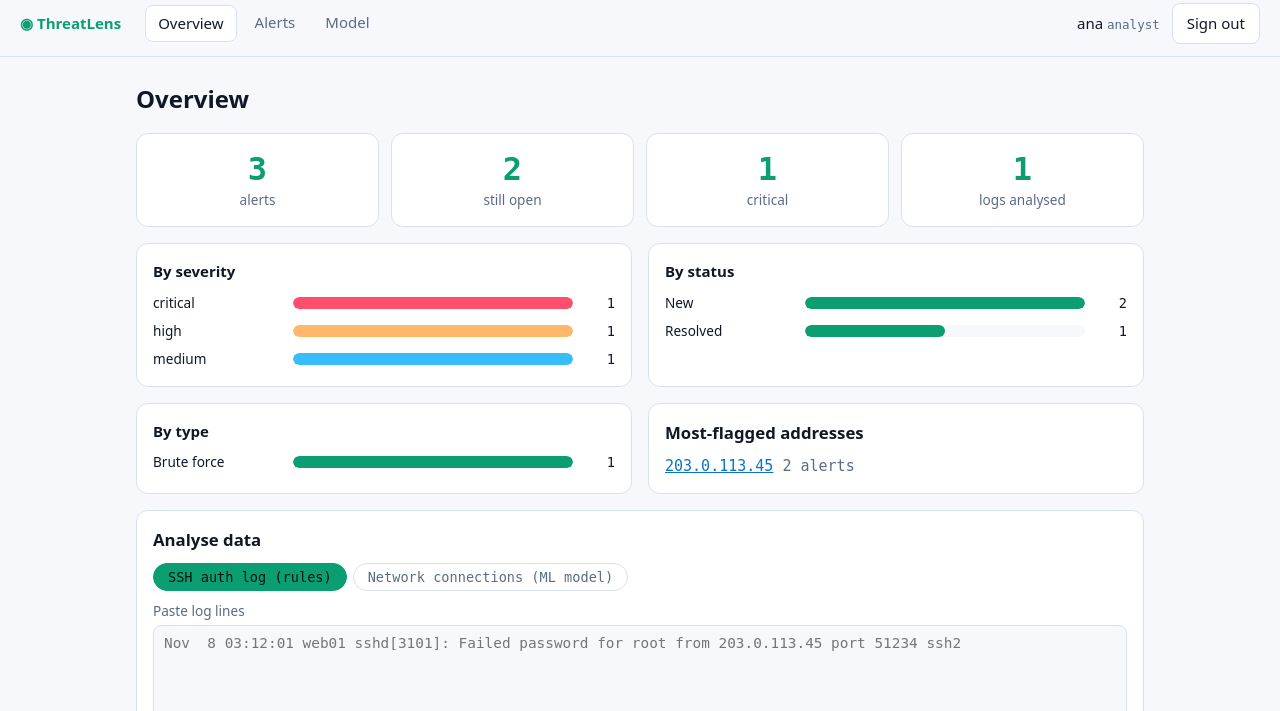
Scenario: machine-learning features › shows the server message when records are malformed
This screenshot has width=1280, height=711.
Click the tab "Network connections (ML model)": (490,576) [353, 562, 628, 590]
(page scrolled)
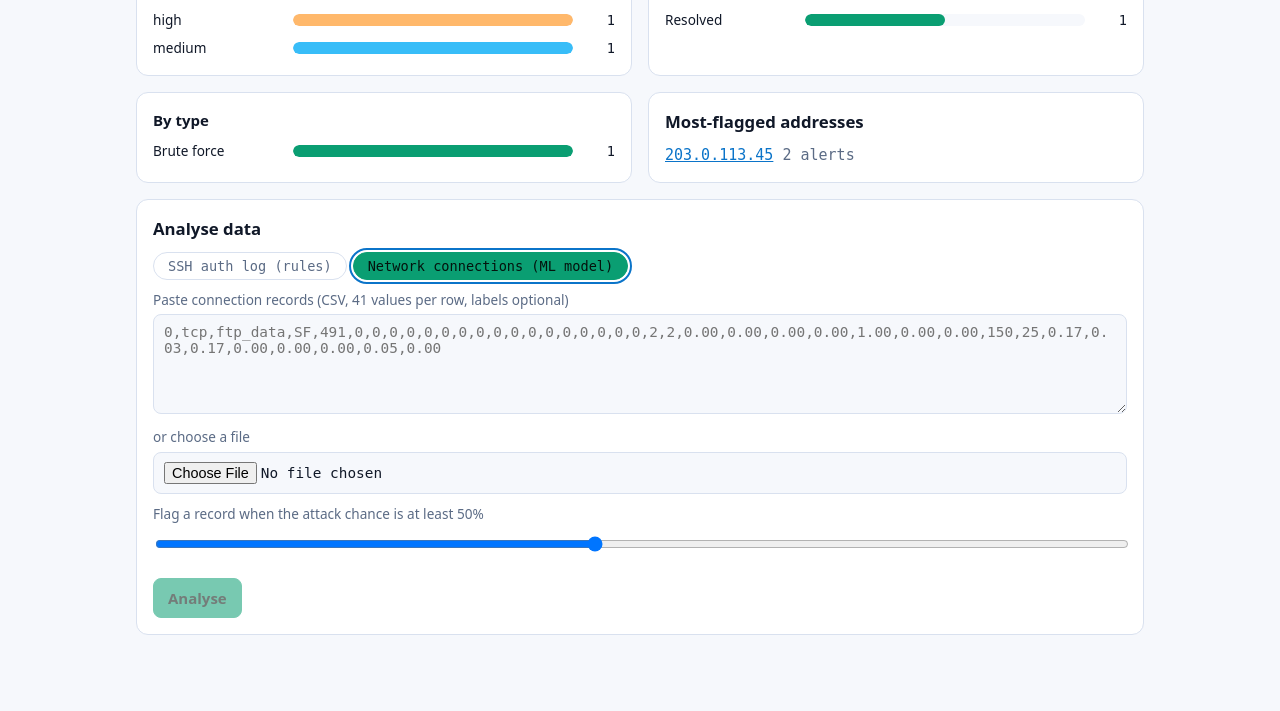
In the text box labelled "Paste connection records": (640,364) [153, 314, 1127, 414], type "1,2,3"
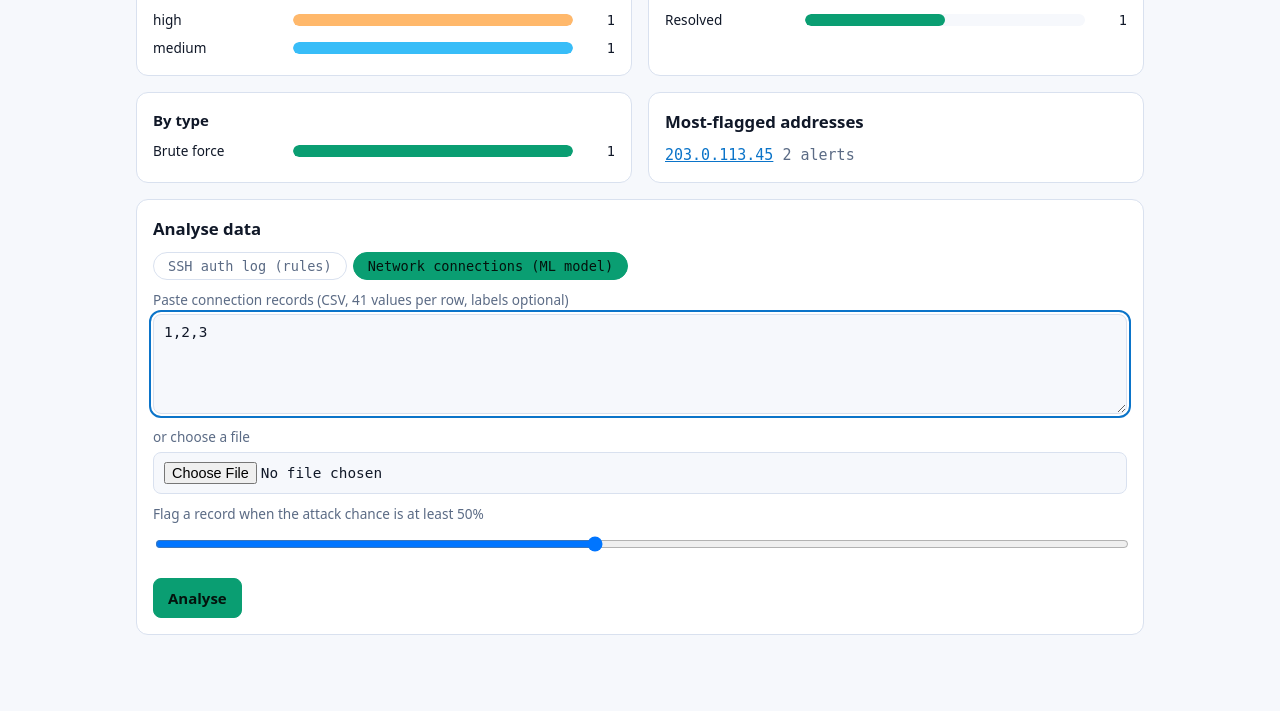
Click the button "Analyse": (197,598) [153, 578, 242, 618]
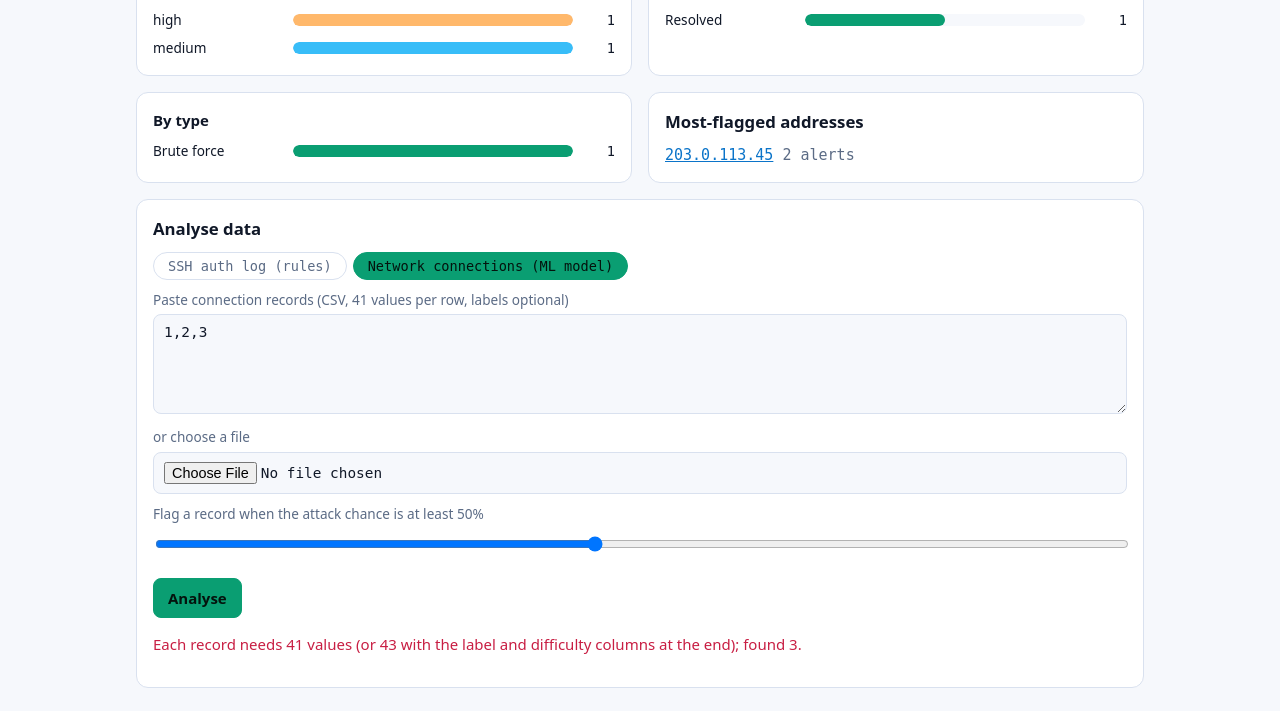
Expected: the message shows "41 values", [153, 634, 802, 654]
